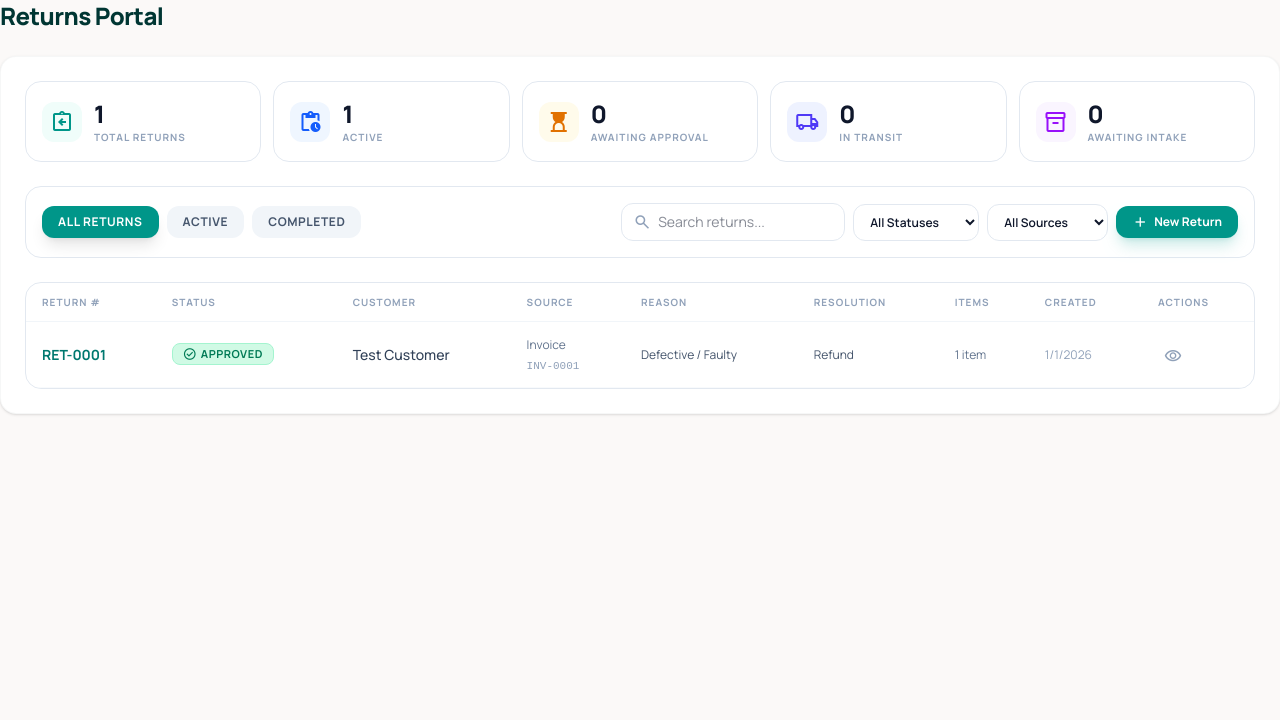
ReturnsPortal — provider label URL containment › never renders the provider label URL in the return detail
Click the text "RET-0001": coordinates (74, 354) [42,345,106,364]
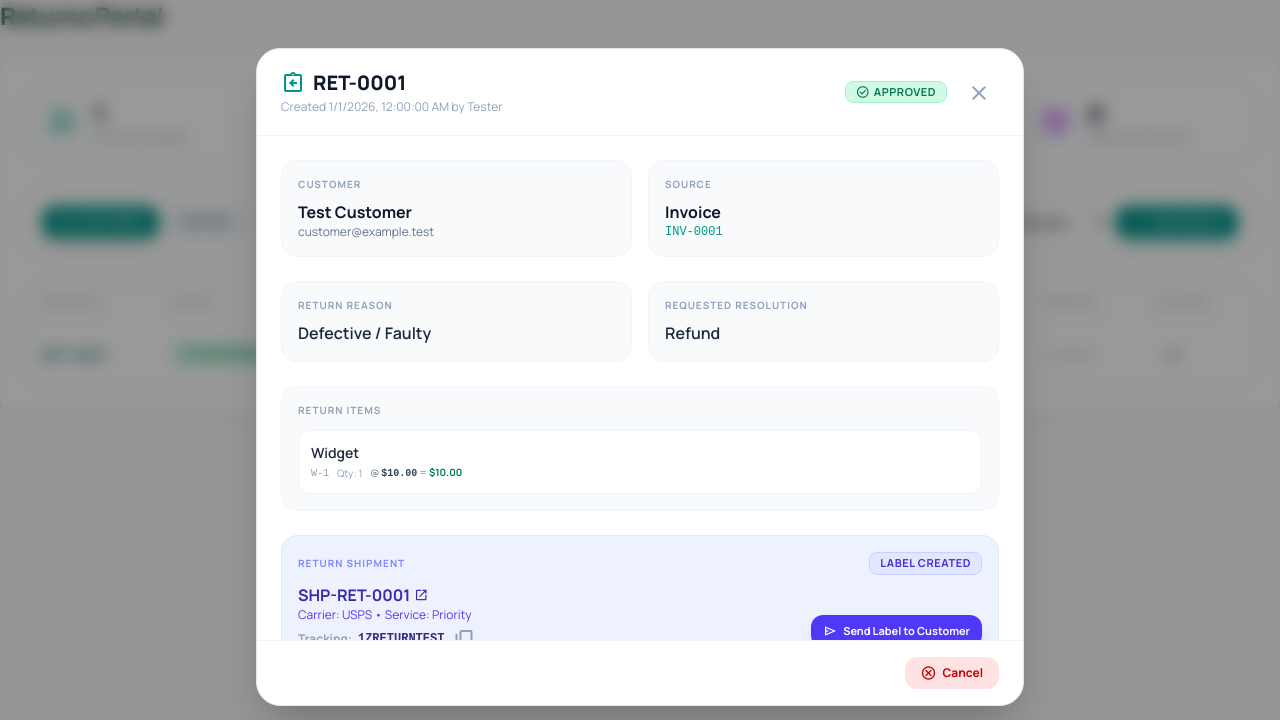
Expected: the heading "Return Shipment" is shown, [298,556,405,571]
